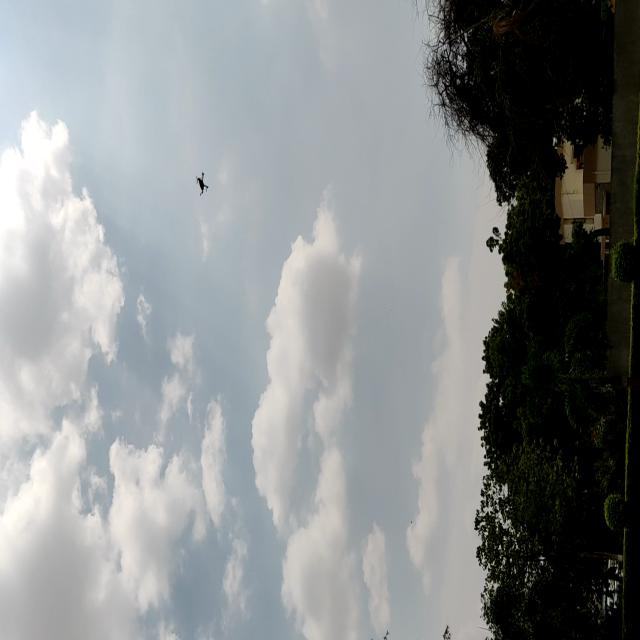drone: (193, 171, 210, 203)
